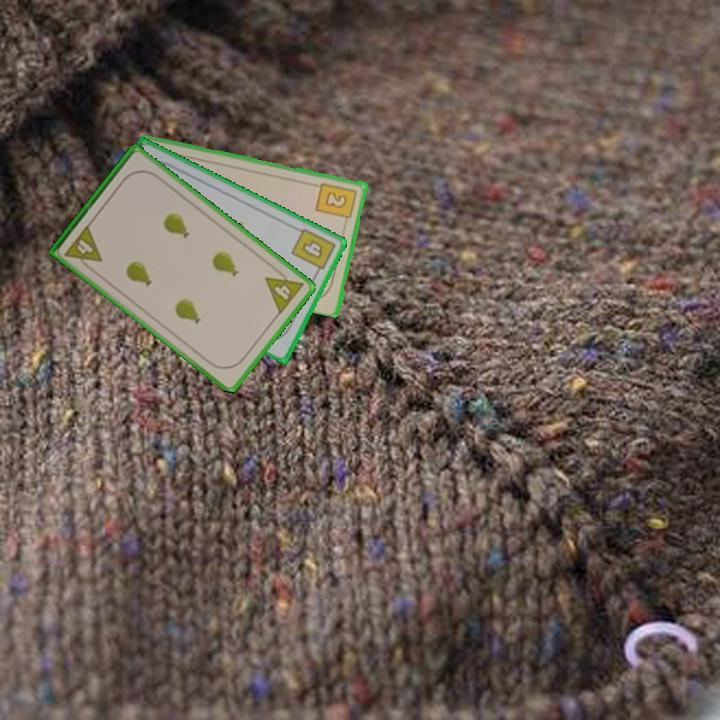2b: (313, 179, 360, 227)
4b: (288, 225, 338, 278)
4p: (261, 263, 307, 317), (61, 221, 105, 274)
